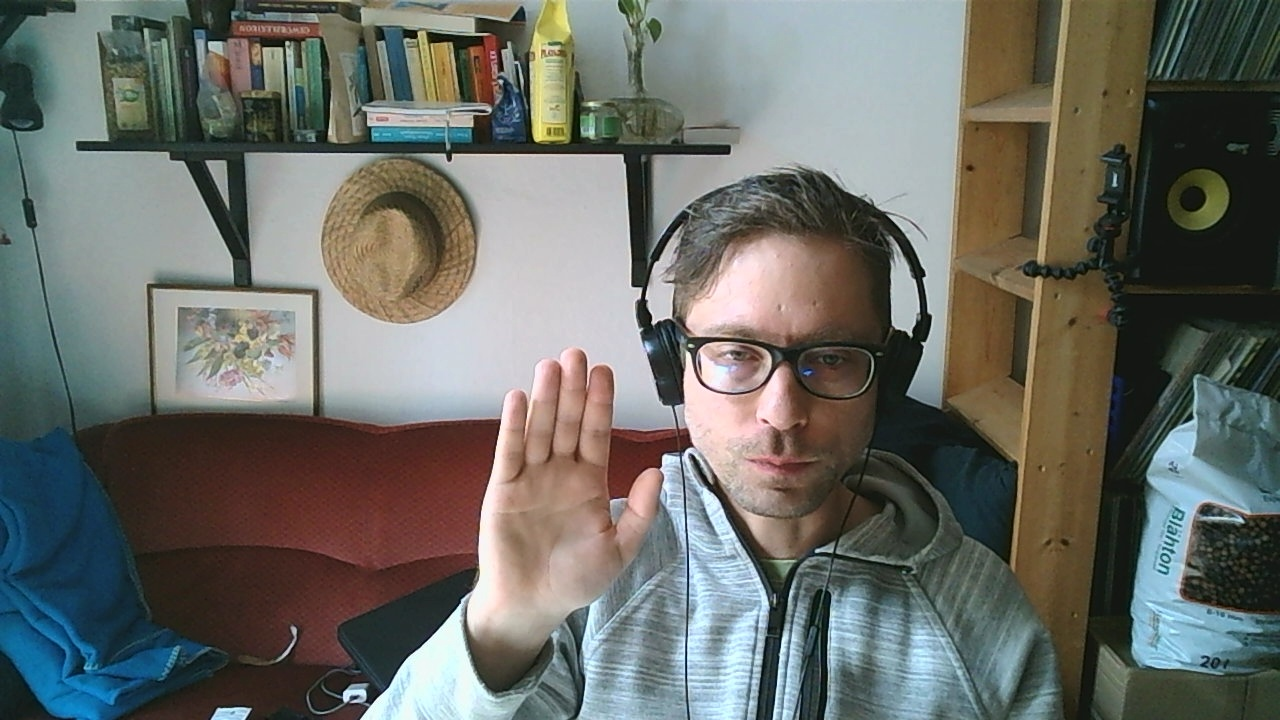hello: (477, 347, 666, 623)
